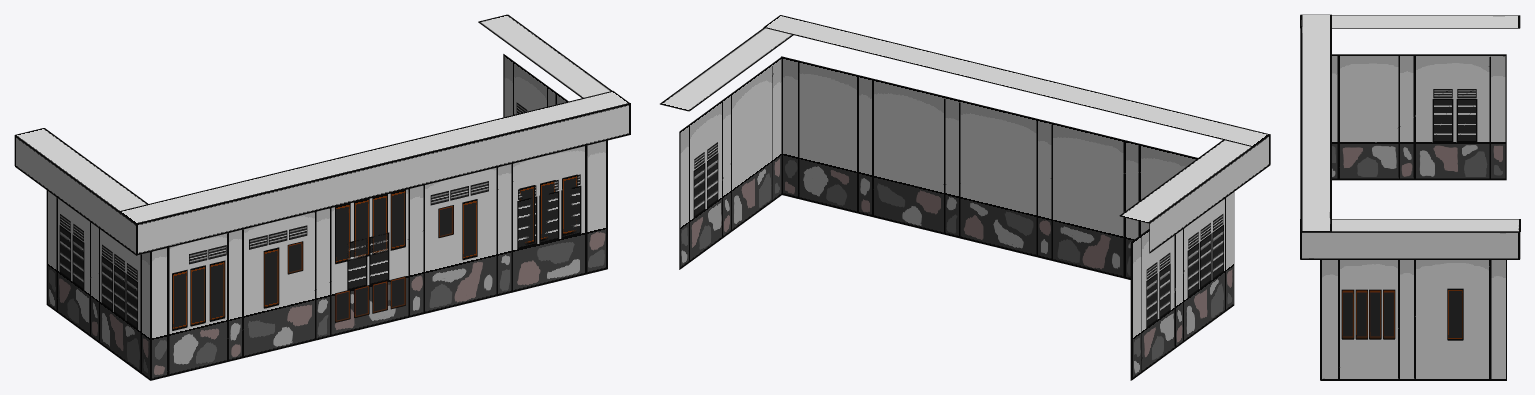
File: Lower Middle Part.gltf
The picture shows the model from 3 angles, left to right: view 1: azimuth 30°, elevation 25°; view 2: azimuth 150°, elevation 25°; view 3: azimuth 270°, elevation 25°; orthographic projection. The views are drawn at different scales.
Visible parts, largest first — view 1: default; view 2: default; view 3: default.
Boxes of the visible parts, x1,y1,x2,y2 form: default: [14, 14, 630, 380]; default: [660, 15, 1270, 380]; default: [1300, 14, 1520, 380].
Bounding box in the file's own units: 65.88 × 21.88 × 28.44.
Materials: 1 (1 with a texture image).
